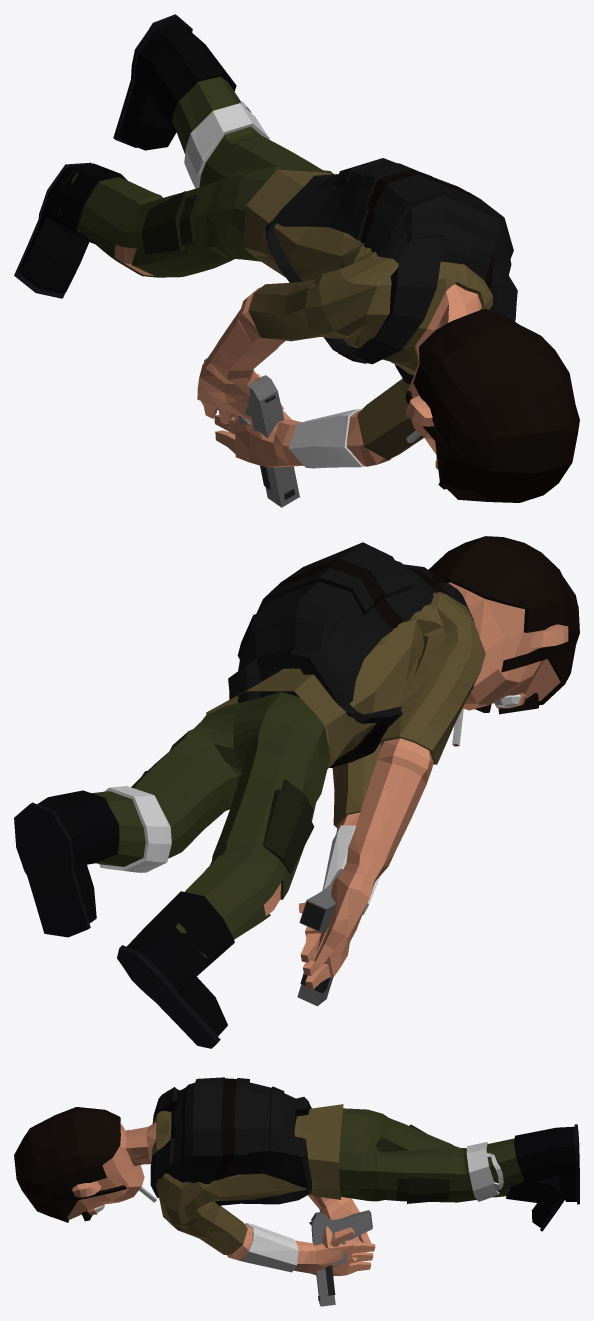
Rendered from frame_0055.obj.
The picture shows the model from 3 angles, top to bottom: view 1: azimuth 30°, elevation 25°; view 2: azimuth 150°, elevation 25°; view 3: azimuth 270°, elevation 25°; orthographic projection. The views are drawn at different scales.
Visible parts, largest first — view 1: Body, Gun; view 2: Body, Gun; view 3: Body, Gun.
Part boxes in pixels (<box>): Body: <box>14,14,579,502</box>; Gun: <box>204,358,299,507</box>; Body: <box>14,536,579,1048</box>; Gun: <box>297,868,342,1006</box>; Body: <box>14,1077,579,1276</box>; Gun: <box>309,1210,372,1306</box>.
Size of the model in its own units: 1.17 by 1.92 by 4.14.
